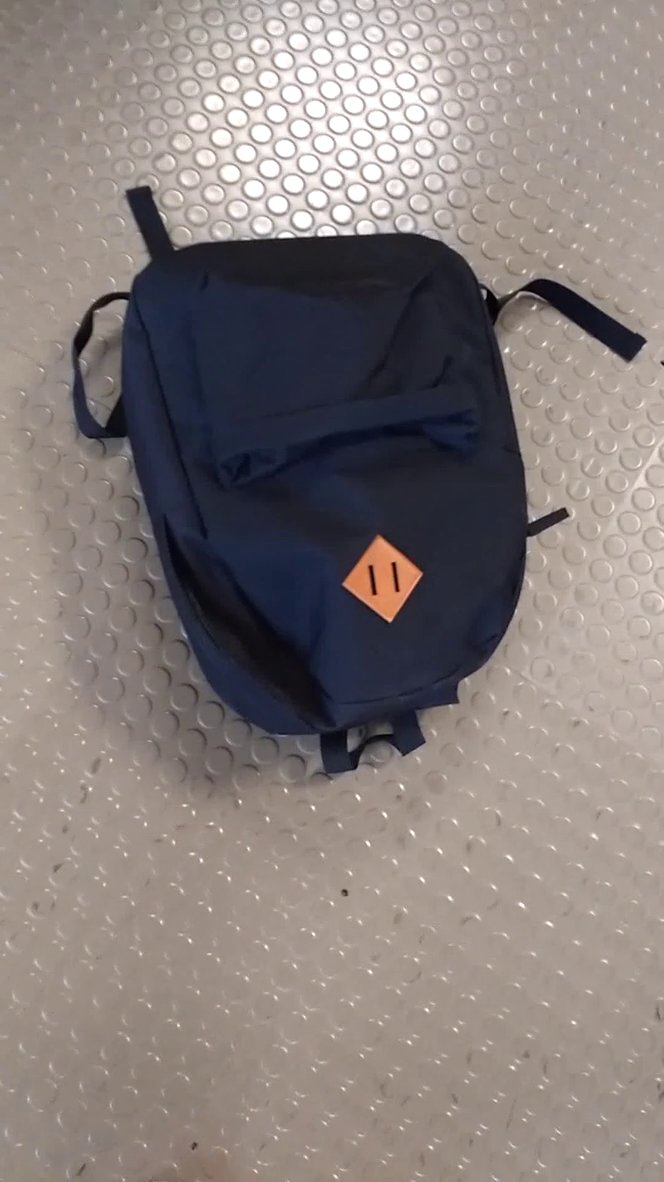bag: (58, 176, 656, 780)
